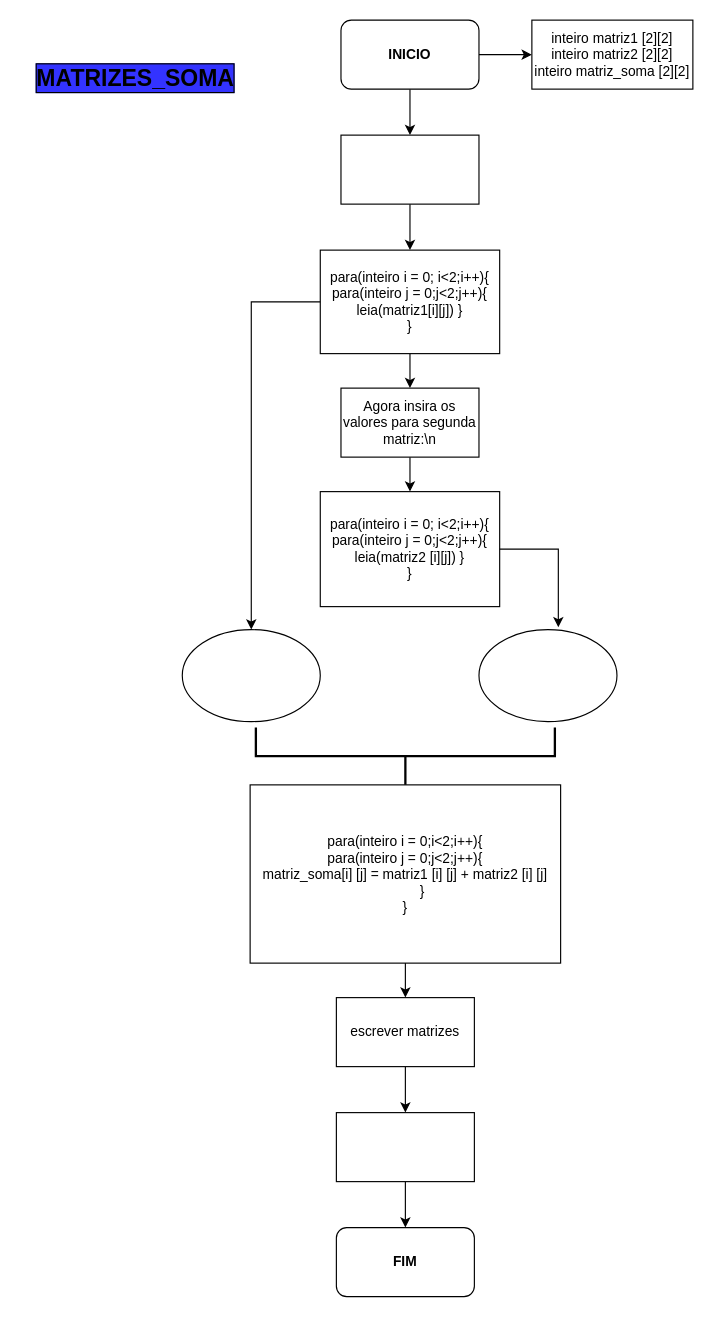
The diagram is 713 pixels wide and 1317 high, and some of its shapes have lost their labels. The shapes that lost their labels are listed below. From the top down, each one's centre as x and y in pixels, then its label:
(409,169): Olá insira os valores para a primeira matriz:\n
(250,675): matriz1 <-- entrada
(547,675): matriz2 <-- entrada
(404,1146): A soma dessas matrizes é: escrever matriz_soma
